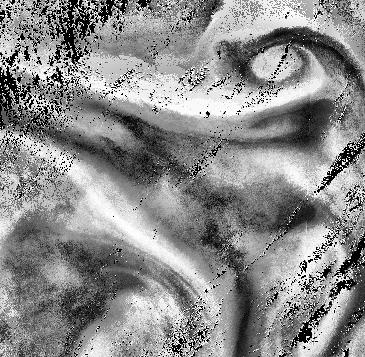CE: (221, 29, 332, 98)
